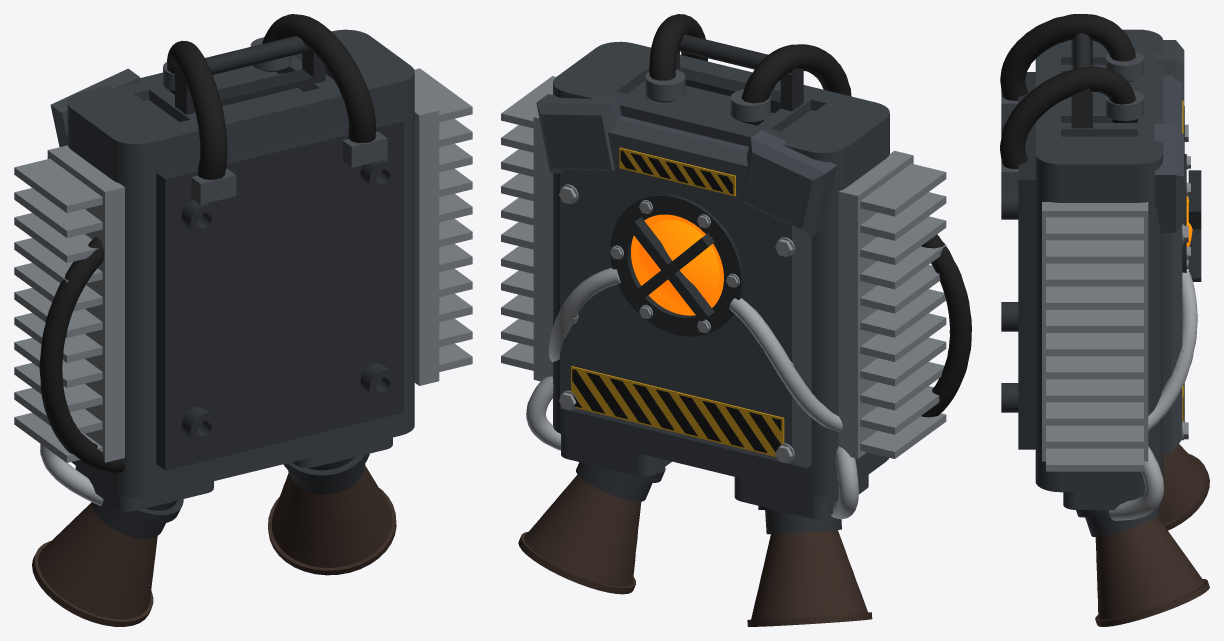
File: gad_thruster.glb
3 views of the same model, side by side, from view 1: azimuth 30°, elevation 25°; view 2: azimuth 150°, elevation 25°; view 3: azimuth 270°, elevation 25° (orthographic). The views are drawn at different scales.
Parts seen in each view (by area): view 1: robot_mount_plate, armour_body, heat_sink_fins, nozzle_bells_scorched, power_cables, lift_handle, nozzle_housings, cable_connectors, pipes, outer_armour; view 2: outer_armour, heat_sink_fins, armour_body, nozzle_bells_scorched, power_cables, core_frame, pipes, warning_paint, warning_stripes, overcharge_core, lift_handle, nozzle_housings (+2 smaller); view 3: heat_sink_fins, armour_body, nozzle_bells_scorched, power_cables, outer_armour, robot_mount_plate, pipes, cable_connectors, core_frame, lift_handle, nozzle_housings, bolts.
Boxes of the visible parts, x1=… form: robot_mount_plate: x1=156, y1=114, x2=404, y2=470; armour_body: x1=67, y1=29, x2=414, y2=511; heat_sink_fins: x1=14, y1=68, x2=472, y2=462; nozzle_bells_scorched: x1=32, y1=466, x2=396, y2=626; power_cables: x1=39, y1=14, x2=375, y2=473; lift_handle: x1=175, y1=36, x2=325, y2=114; nozzle_housings: x1=91, y1=453, x2=369, y2=538; cable_connectors: x1=163, y1=37, x2=387, y2=204; pipes: x1=40, y1=444, x2=103, y2=505; outer_armour: x1=50, y1=68, x2=140, y2=146; outer_armour: x1=536, y1=94, x2=837, y2=468; heat_sink_fins: x1=501, y1=76, x2=946, y2=458; armour_body: x1=553, y1=41, x2=889, y2=519; nozzle_bells_scorched: x1=518, y1=474, x2=872, y2=626; power_cables: x1=649, y1=14, x2=971, y2=417; core_frame: x1=610, y1=194, x2=743, y2=336; pipes: x1=526, y1=268, x2=858, y2=519; warning_paint: x1=571, y1=147, x2=784, y2=456; warning_stripes: x1=572, y1=150, x2=781, y2=452; overcharge_core: x1=631, y1=214, x2=723, y2=315; lift_handle: x1=676, y1=34, x2=803, y2=112; nozzle_housings: x1=576, y1=462, x2=841, y2=534; heat_sink_fins: x1=1042, y1=202, x2=1148, y2=471; armour_body: x1=1035, y1=29, x2=1163, y2=509; nozzle_bells_scorched: x1=1095, y1=444, x2=1209, y2=626; power_cables: x1=1000, y1=14, x2=1137, y2=169; outer_armour: x1=1154, y1=40, x2=1184, y2=453; robot_mount_plate: x1=1001, y1=72, x2=1035, y2=449; pipes: x1=1109, y1=270, x2=1197, y2=520; cable_connectors: x1=1001, y1=51, x2=1143, y2=191; core_frame: x1=1182, y1=154, x2=1201, y2=281; lift_handle: x1=1071, y1=33, x2=1092, y2=128; nozzle_housings: x1=1076, y1=508, x2=1159, y2=536; bolts: x1=1182, y1=124, x2=1190, y2=440.
Size of the model in its own units: 0.2168 by 0.2758 by 0.0987.
